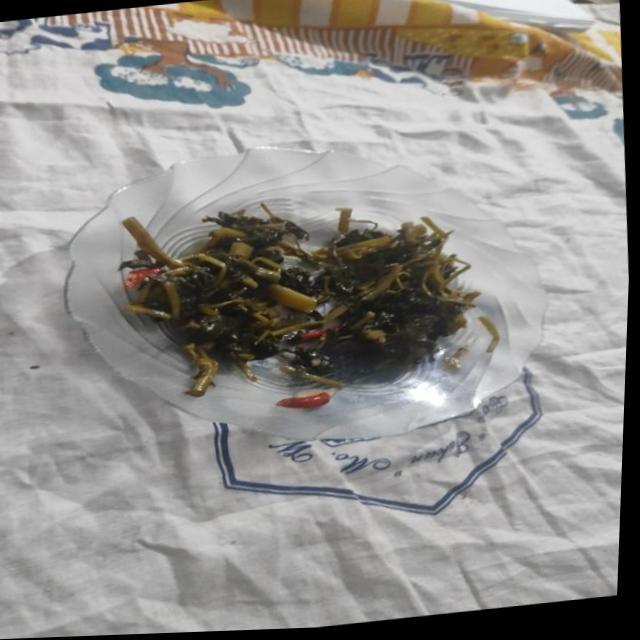tumis_kangkung: (122, 202, 478, 396)
